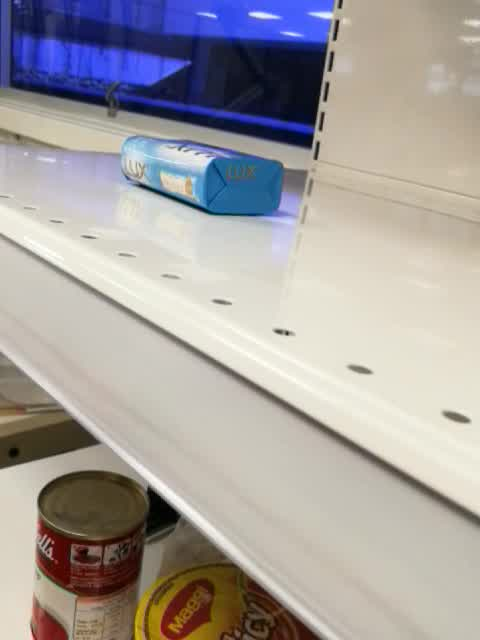soap: (119, 133, 283, 218)
